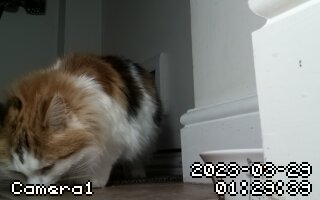clara: (4, 53, 162, 193)
